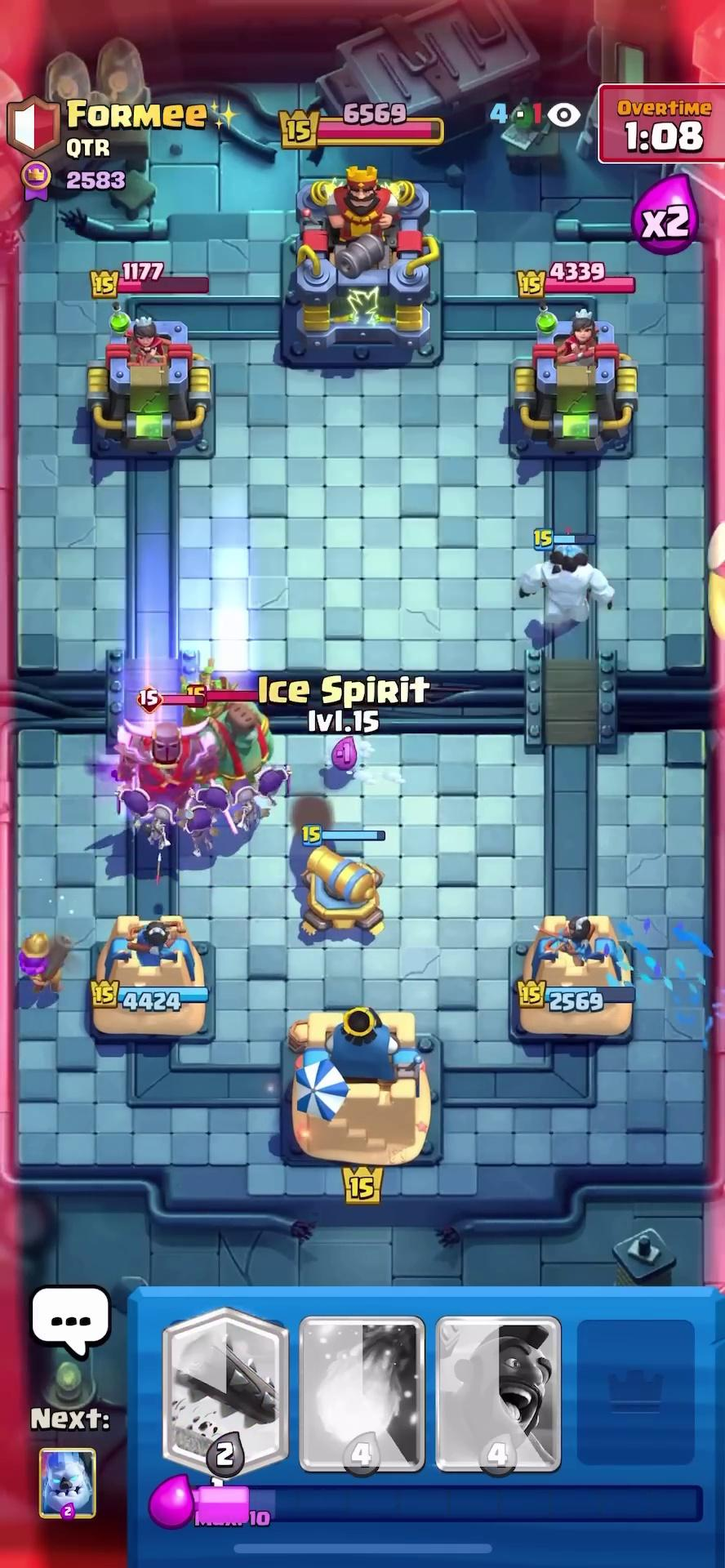cannon: (290, 827, 402, 964)
evo_skeletons: (118, 790, 259, 855), (259, 766, 294, 798)
ice_golem: (525, 535, 616, 637)
musketeer: (10, 921, 78, 996)
